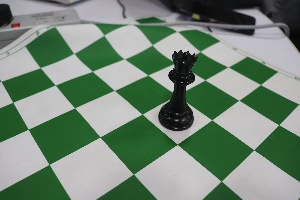black_queen: (156, 36, 199, 136)
